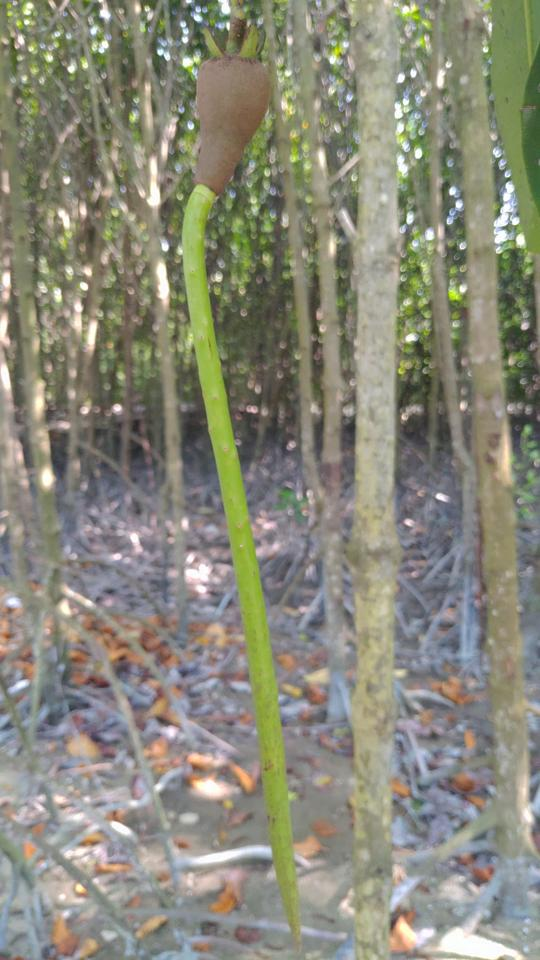setengah matang: (170, 19, 330, 955)
